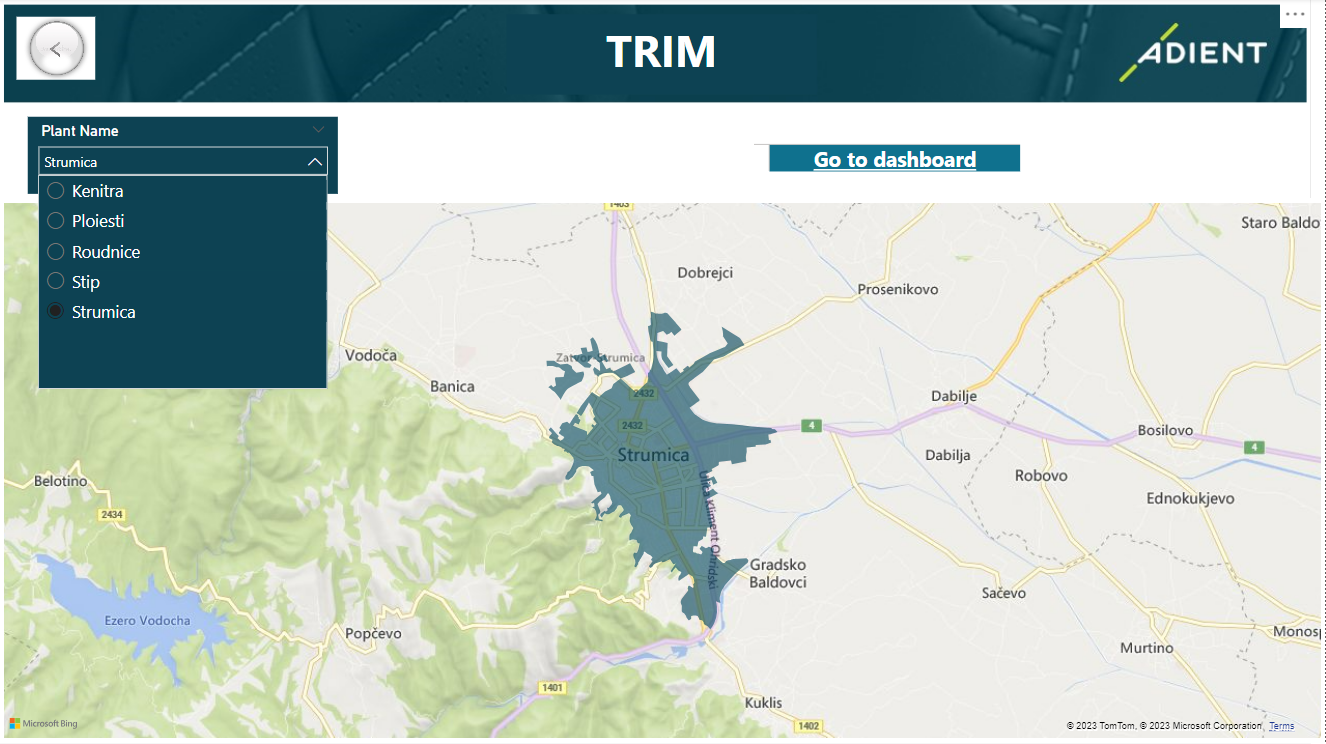

The page's visual inventory and layout, read from the dashboard file:
{"tool":"powerbi","page":{"name":"TRIM","canvas":[1280,720],"ordinal":1},"visuals":[{"type":"image","box":[0,0,1266.9,720],"z":0},{"type":"pivotTable","fields":{"Values":["Min(Query1 (2).Submit)"]},"box":[723.9,115.2,329,60.9],"z":1000},{"type":"textbox","box":[490.2,16.2,299.3,77.7],"z":2000},{"type":"slicer","fields":{"Values":["Query1 (2).Plant Name"]},"box":[28,115.2,299.4,74],"z":3000},{"type":"image","box":[11.5,13.2,85.6,70.7],"z":4000},{"type":"filledMap","fields":{"Category":["Query1 (2).Plant Name"],"Series":["Query1 (2).Product Group"]},"box":[0,193,1280,526.2],"z":5000}]}

Visuals, with their boxes on the page's 1280x720 design canvas (x1, y1, x2, y2). These are canvas units, not pixel positions in the 1326x744 screenshot, which may show the page scaled, cropped or inside an application window:
image: 0:0:1267:720
pivotTable - Min(Query1 (2).Submit): 724:115:1053:176
textbox: 490:16:790:94
slicer - Query1 (2).Plant Name: 28:115:327:189
image: 12:13:97:84
filledMap - Query1 (2).Plant Name x Query1 (2).Product Group: 0:193:1280:719
